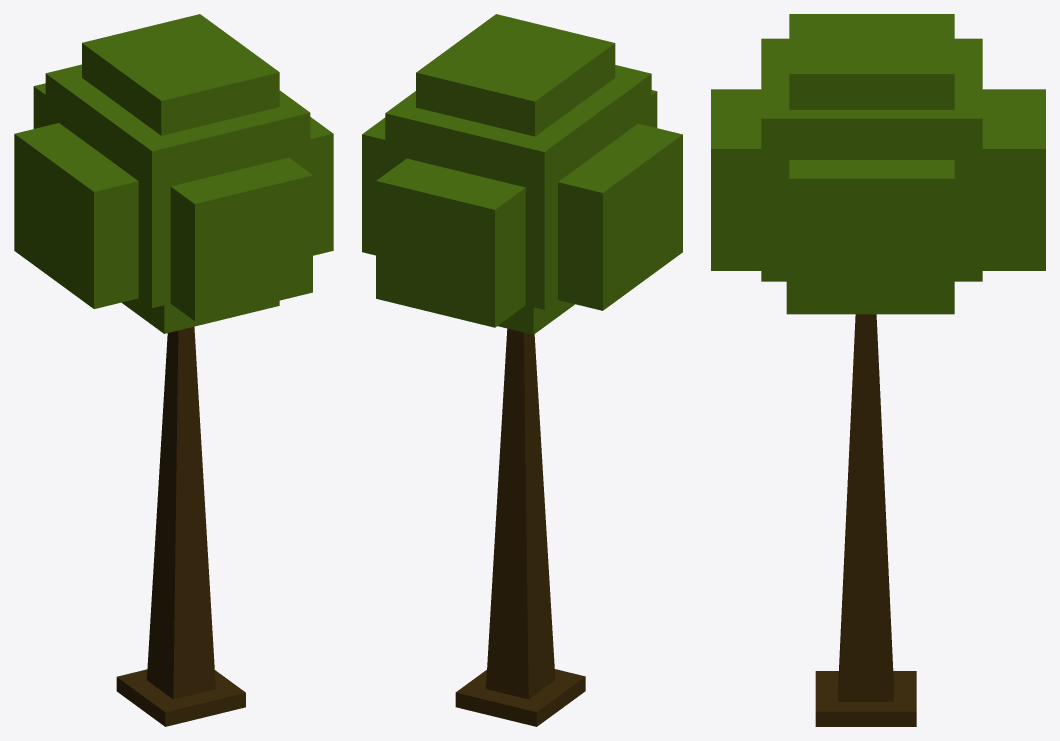
Rendered from tree3.FBX.
3 renders of one model, left to right at view 1: azimuth 30°, elevation 25°; view 2: azimuth 150°, elevation 25°; view 3: azimuth 270°, elevation 25°, orthographic. The views are drawn at different scales.
Parts seen in each view (by area): view 1: tree3; view 2: tree3; view 3: tree3.
Part boxes in pixels (left/top/right/bottom): tree3: left=14, top=14, right=333, bottom=726; tree3: left=362, top=14, right=682, bottom=726; tree3: left=711, top=14, right=1045, bottom=726.
Size of the model in its own units: 4.95 by 12.63 by 5.77.
